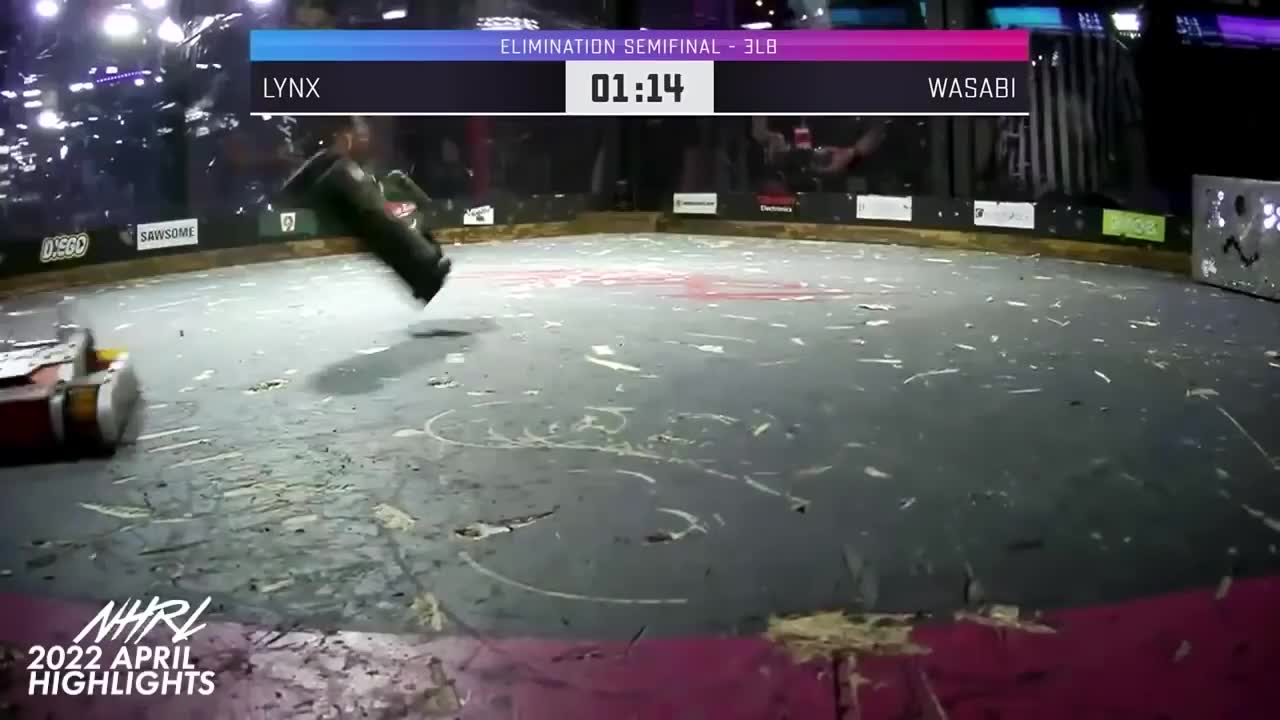combatbot: (273, 151, 456, 310), (0, 322, 138, 466)
housebot: (1188, 174, 1280, 307)
